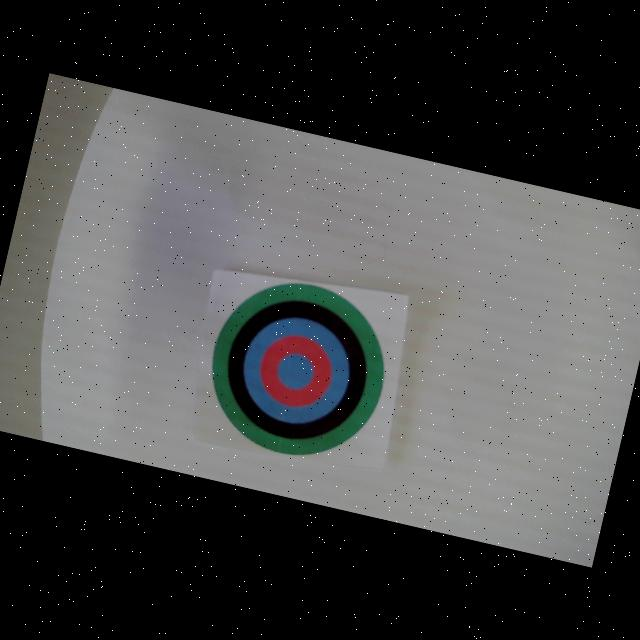COGNITIVE: (193, 266, 402, 472)
